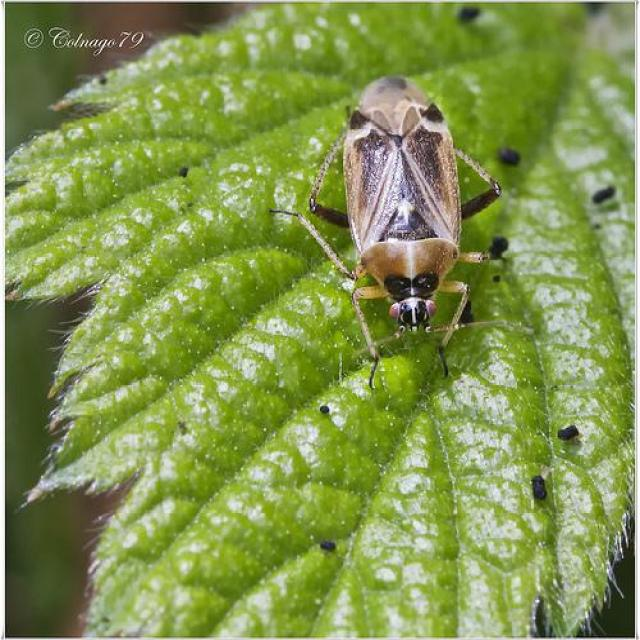Miridae-Adult-: (251, 59, 528, 415)
